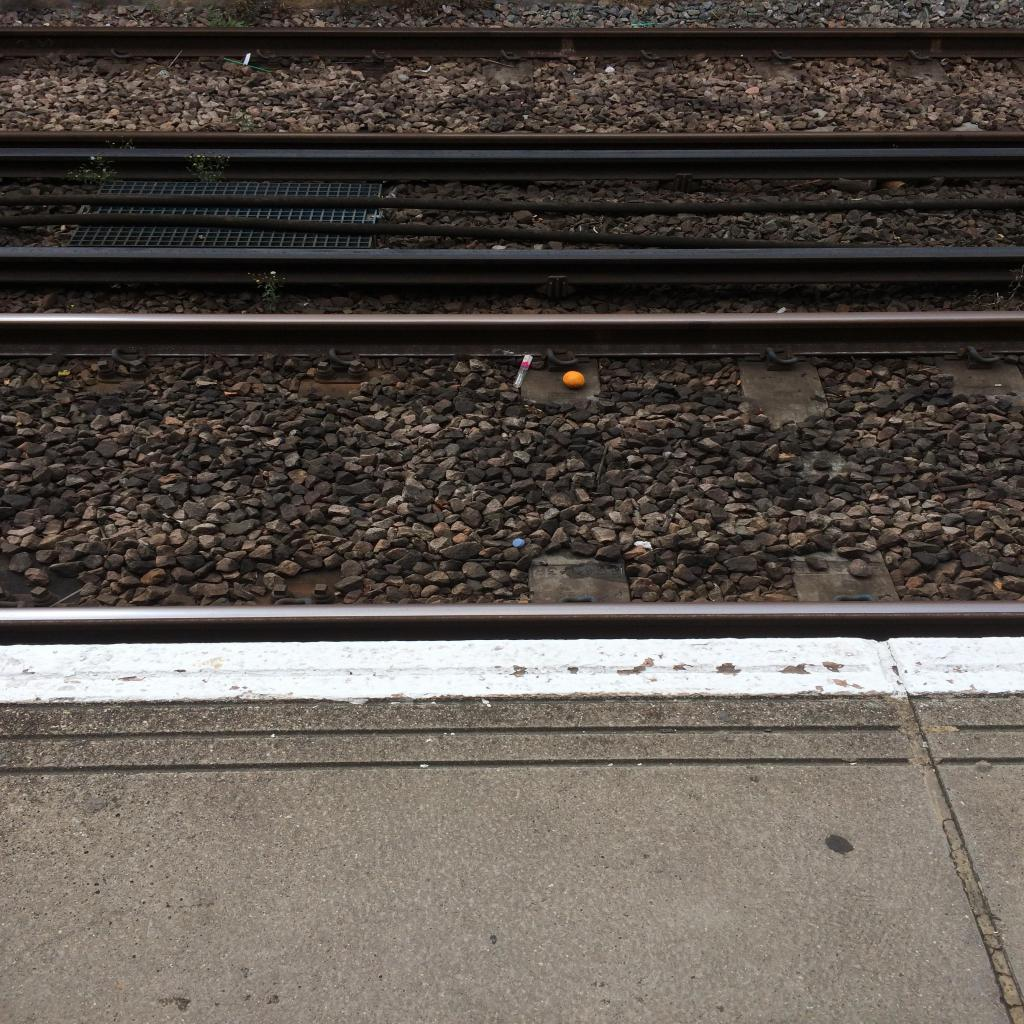Food waste: (563, 371, 585, 388)
Normal paper: (633, 541, 652, 549)
Plastic bottle cap: (512, 538, 524, 548)
Unlabeled litter: (513, 355, 533, 388)
